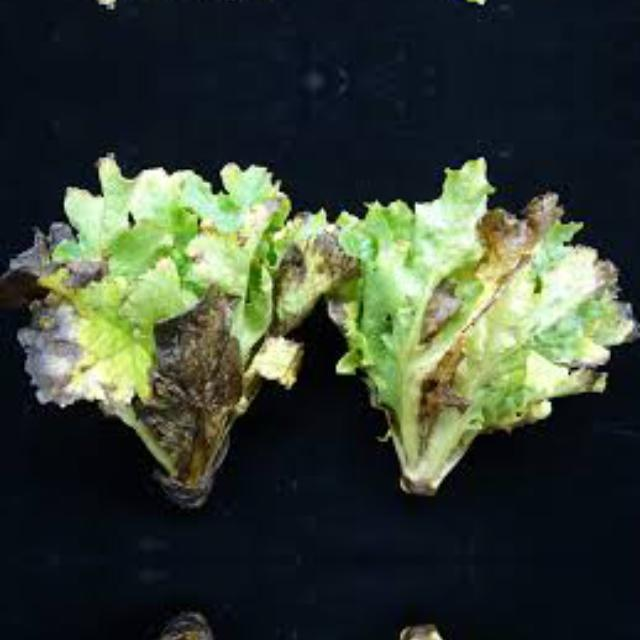Downy_mildew: (6, 160, 640, 500), (6, 618, 639, 640)
